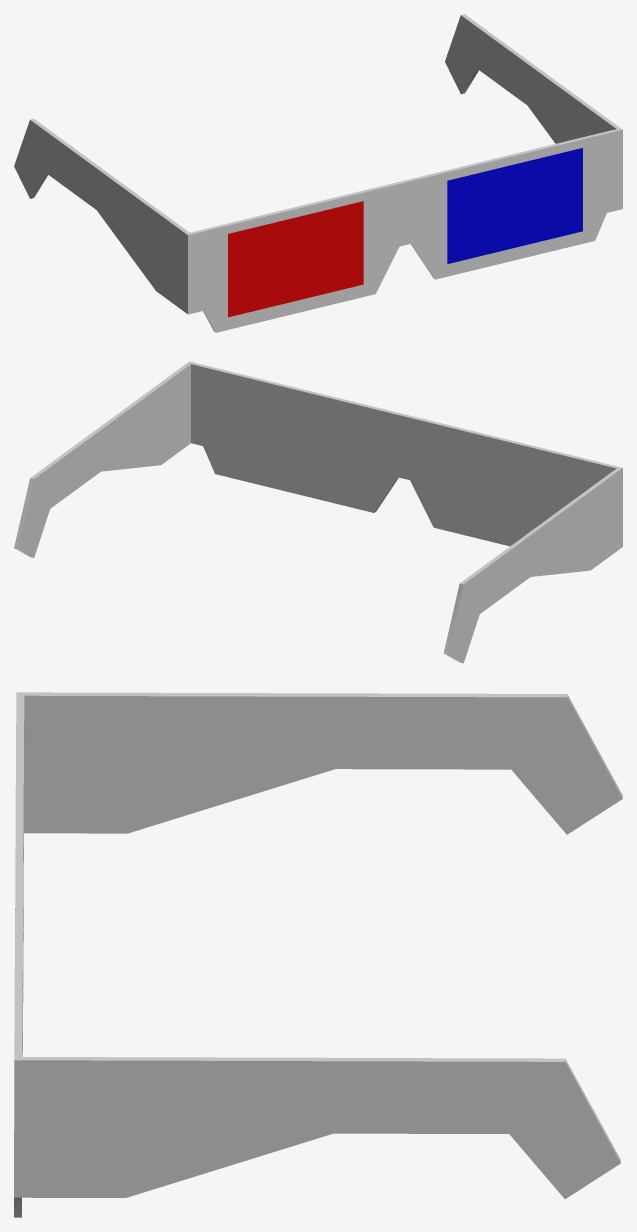
Rendered from Glasses_3D.fbx.
3 views of the same model, one above another, from view 1: azimuth 30°, elevation 25°; view 2: azimuth 150°, elevation 25°; view 3: azimuth 270°, elevation 25° (orthographic). The views are drawn at different scales.
Visible parts, largest first — view 1: dGlass:Middle2; view 2: dGlass:Middle2; view 3: dGlass:Middle2.
Part boxes in pixels (x1,y1,x2,y2): dGlass:Middle2: (14,14,622,332); dGlass:Middle2: (14,361,622,663); dGlass:Middle2: (14,692,622,1217).
Size of the model in its own units: 52.52 by 12.03 by 36.68.
